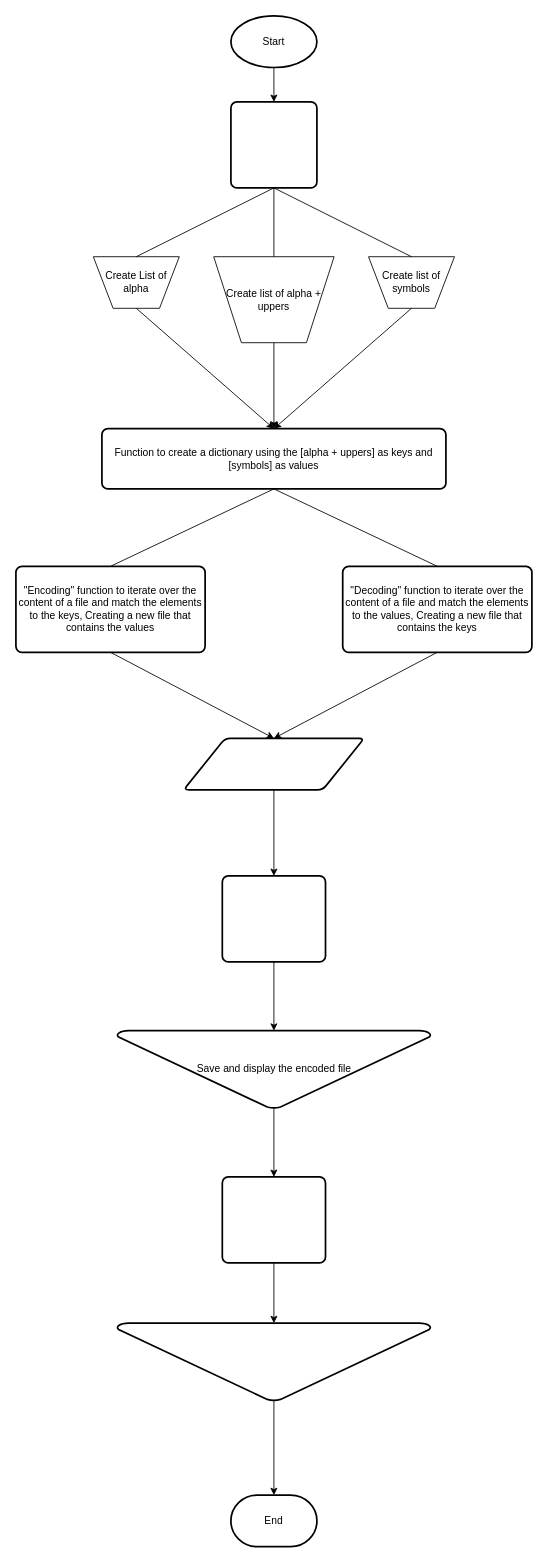
Image size: 547x1562. Some labels were removed from this diagram. The shapes that lost their labels are listed below. From the top down, each one's centre as x and y in pixels, then its label:
At (273,144): "Main()".
At (273,763): "Ask user to upload a text file".
At (273,918): "Run encoding function on the file".
At (273,1219): "Run decoding function on the file".
At (273,1361): "Save and display the decoded file".
